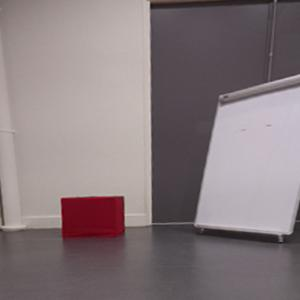big: (194, 76, 300, 240)
medium: (59, 197, 125, 239)
